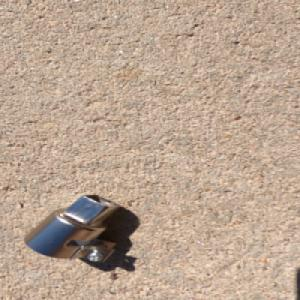MetalPart: (22, 192, 125, 265)
